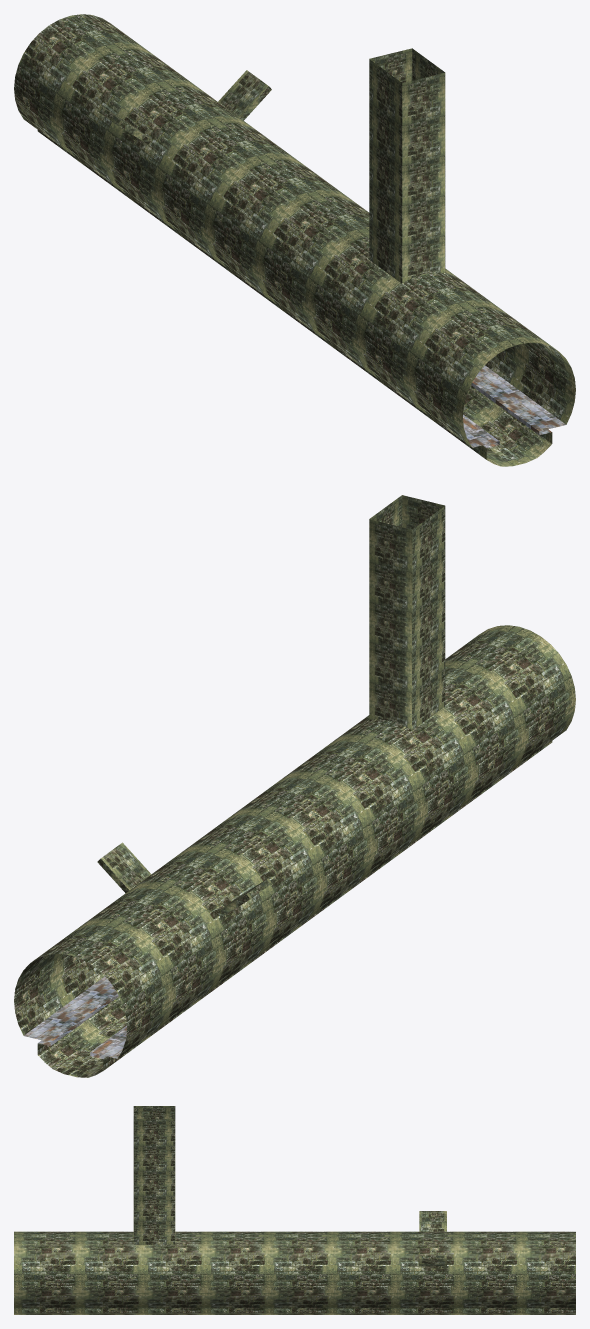
Rendered from Sewer_Start.FBX.
The picture shows the model from 3 angles, top to bottom: view 1: azimuth 30°, elevation 25°; view 2: azimuth 150°, elevation 25°; view 3: azimuth 270°, elevation 25°; orthographic projection. The views are drawn at different scales.
Visible parts, largest first — view 1: Sewer_Start; view 2: Sewer_Start; view 3: Sewer_Start.
Boxes of the visible parts, left/top/right/bottom form: Sewer_Start: left=14, top=14, right=575, bottom=466; Sewer_Start: left=14, top=495, right=575, bottom=1077; Sewer_Start: left=14, top=1106, right=575, bottom=1314.
Bounding box in the file's own units: 800 × 1585 × 4070.
2 materials, 2 textured.
